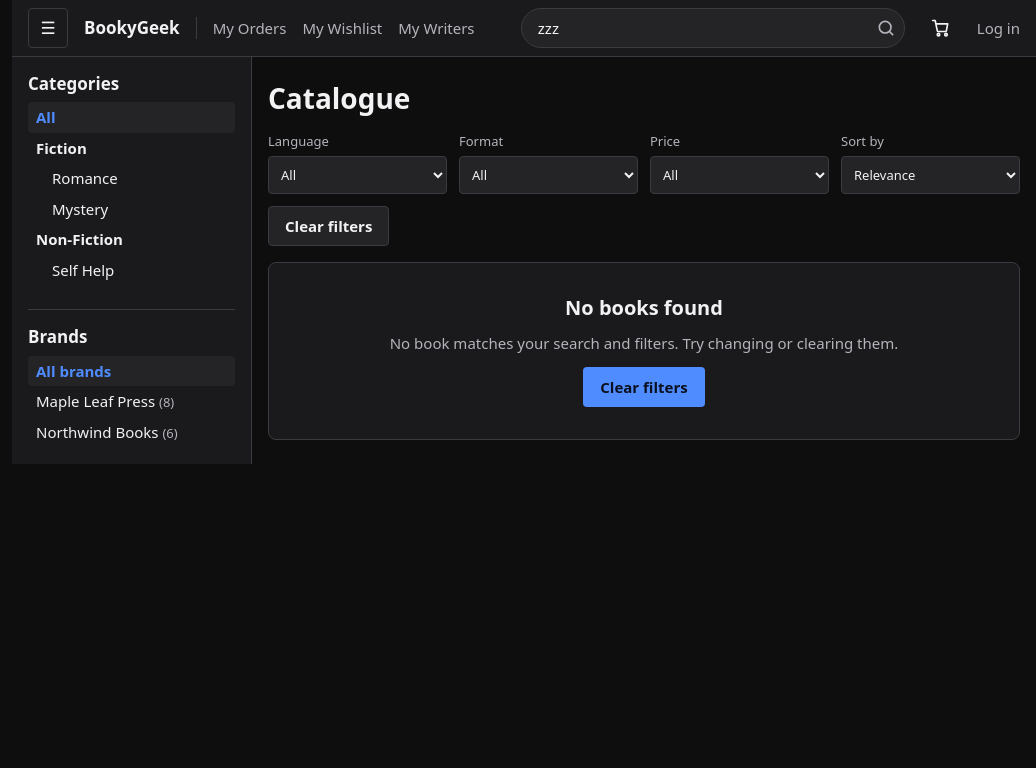
it: CataloguePage › shows an empty state with a way to clear the filters when nothing matches
The image size is (1036, 768).
Expected: the heading "No books found" is shown, [565, 294, 723, 321]
Click the button "Clear filters" below "Language" at (329, 226), box [268, 206, 389, 246]
(page scrolled)
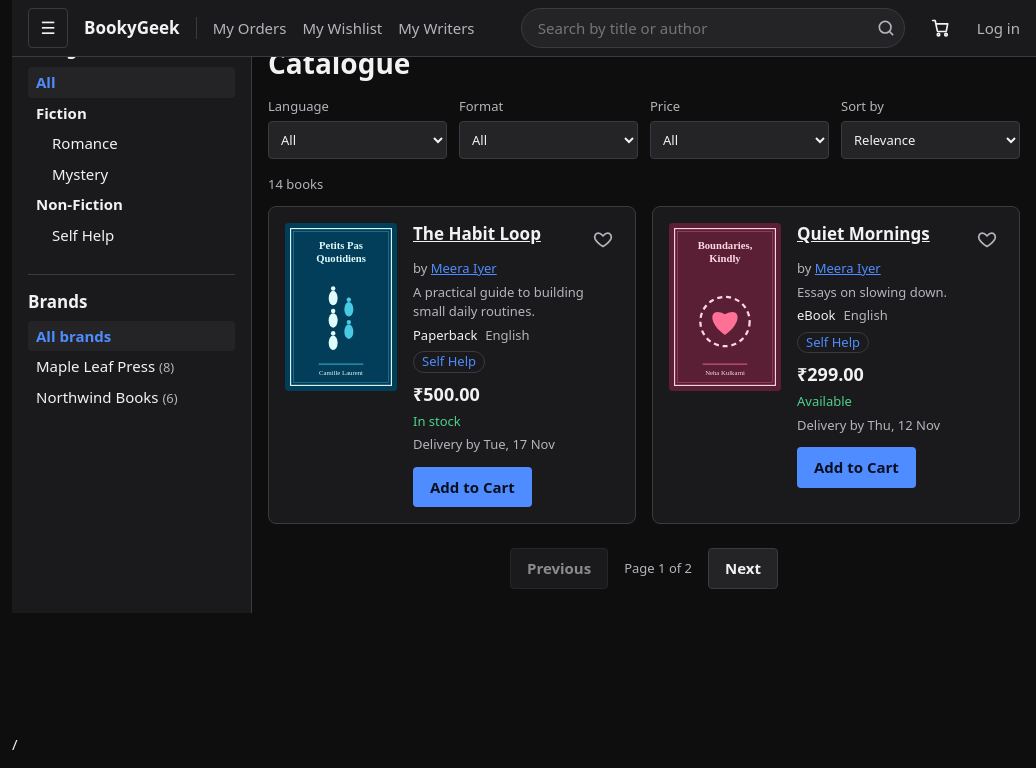
Expected: the heading "The Habit Loop" is shown, [413, 223, 541, 245]
Expected: the text with test id "url" reads "/", [12, 734, 18, 754]
